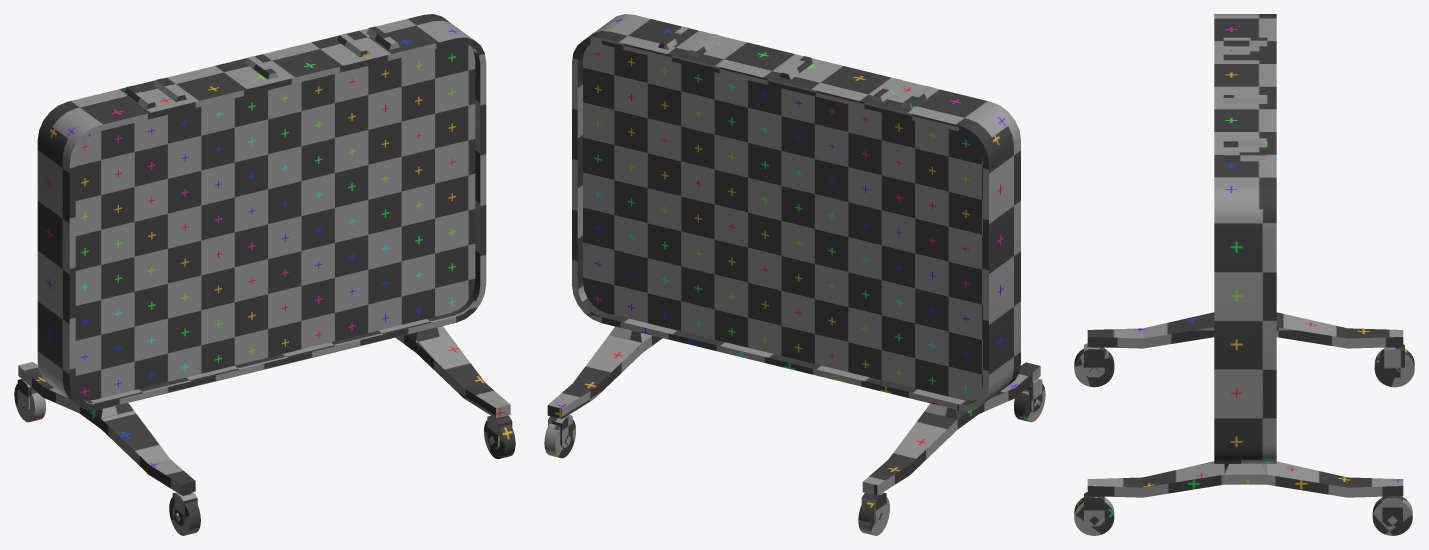
The model's file is Clock.glb.
The picture shows the model from 3 angles, left to right: view 1: azimuth 30°, elevation 25°; view 2: azimuth 150°, elevation 25°; view 3: azimuth 270°, elevation 25°; orthographic projection. The views are drawn at different scales.
Visible parts, largest first — view 1: Clock; view 2: Clock; view 3: Clock.
Part boxes in pixels (left/top/right/bottom): Clock: left=14, top=14, right=515, bottom=535; Clock: left=544, top=14, right=1045, bottom=535; Clock: left=1074, top=14, right=1414, bottom=535.
Bounding box in the file's own units: 4.53 × 3.88 × 3.31.
1 material, 1 textured.
